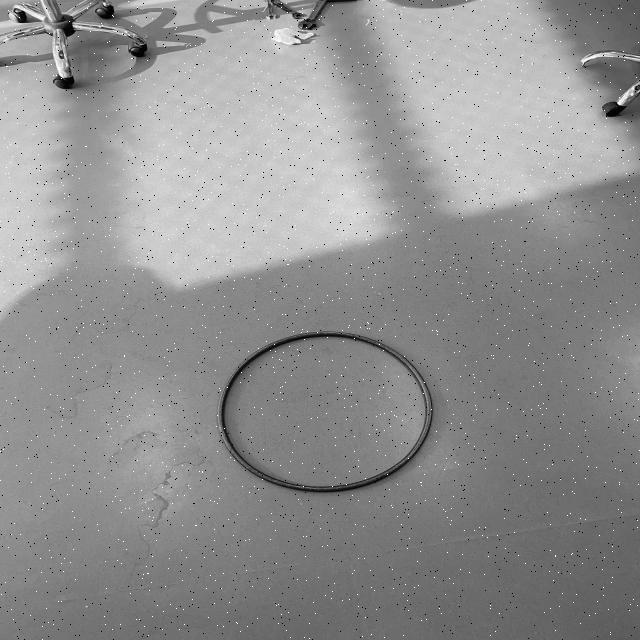Circle: (213, 323, 438, 499)
